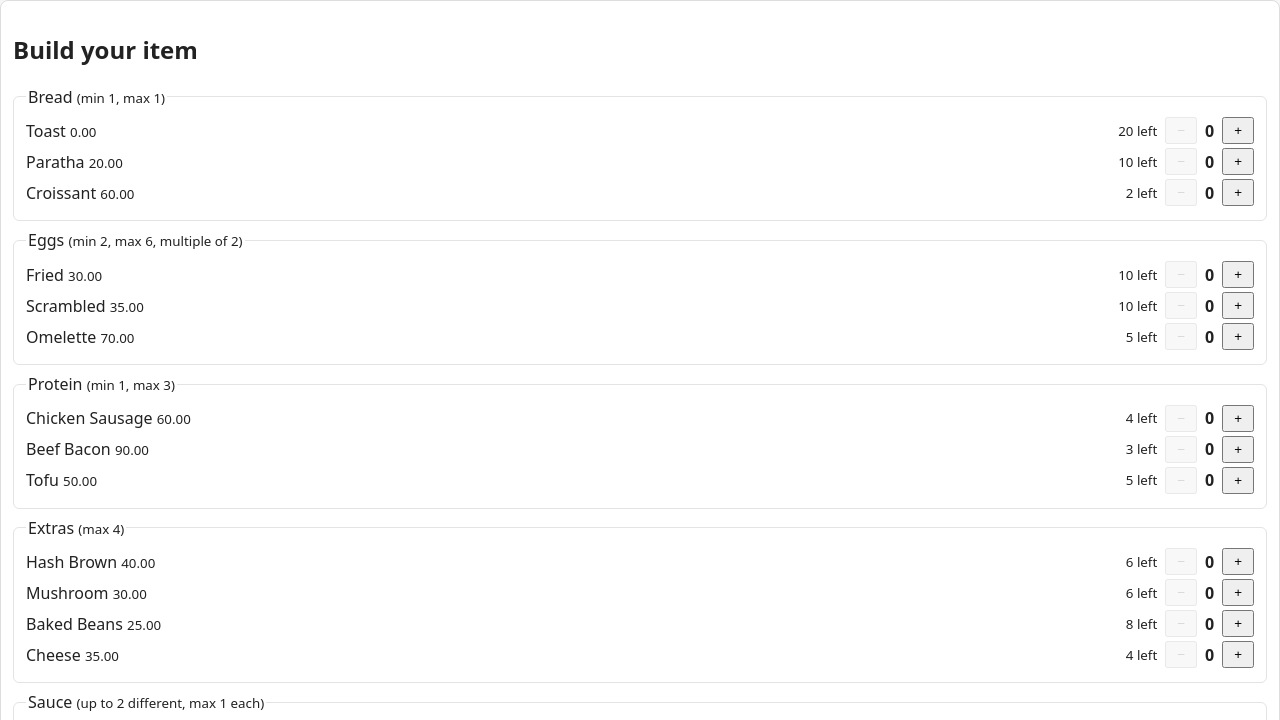
Test: TC-14: failed add keeps the configuration, and Retry reuses the same key
This screenshot has width=1280, height=720.
Later steps or results of the test are not shown.
Click the button "+" in the row of "20 left": click(1238, 131) x1=1222 y1=117 x2=1254 y2=144
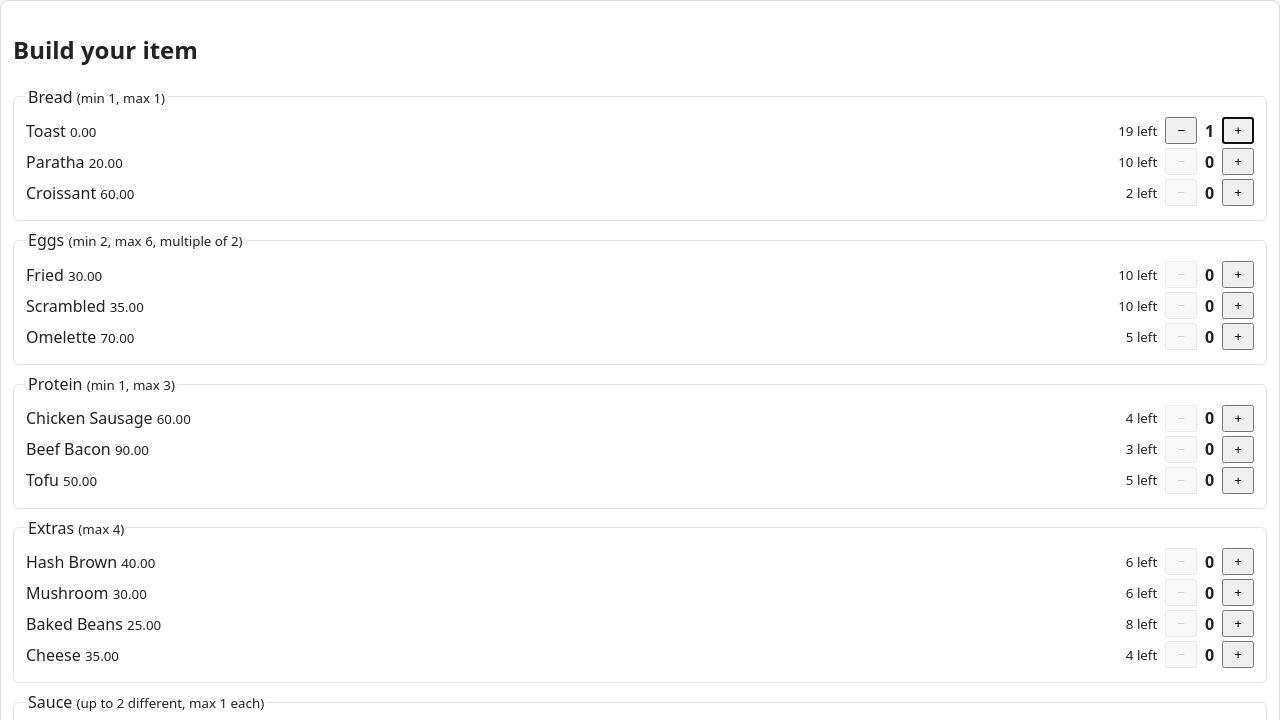
Click the button "+" in the row of "Fried": click(1238, 274) x1=1222 y1=261 x2=1254 y2=288
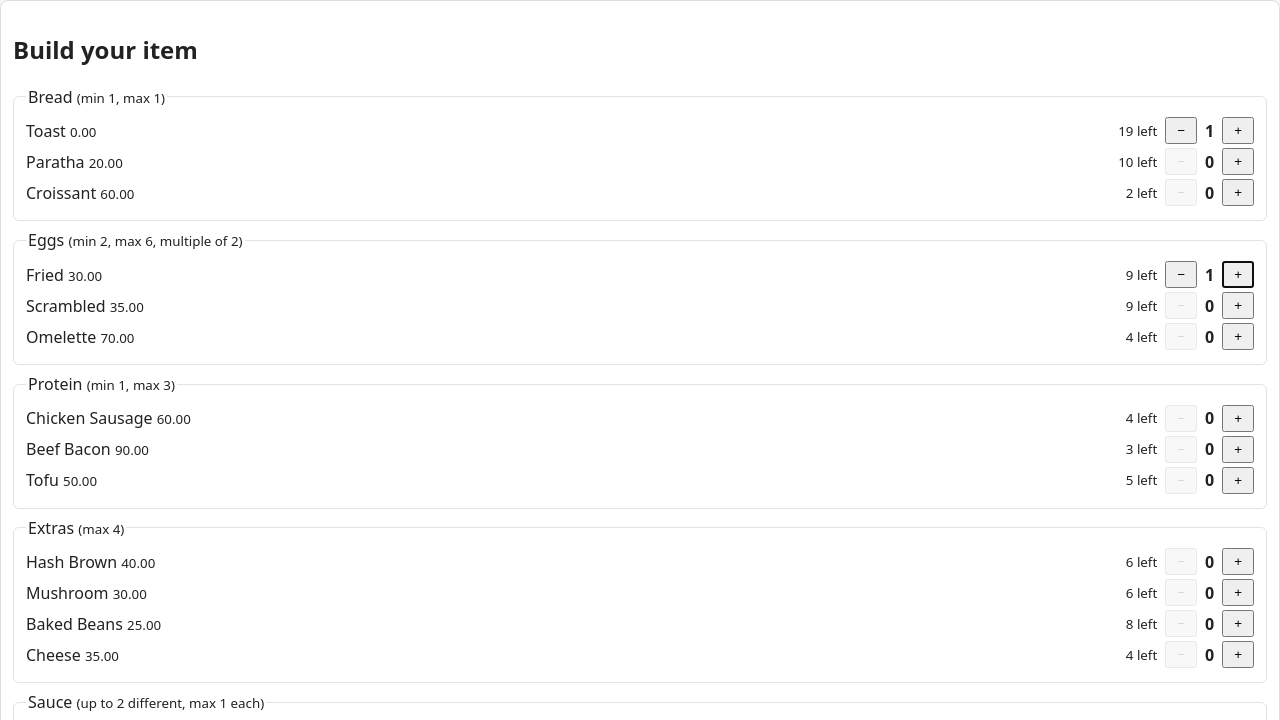
Click the button "+" in the row of "Fried": click(1238, 274) x1=1222 y1=261 x2=1254 y2=288
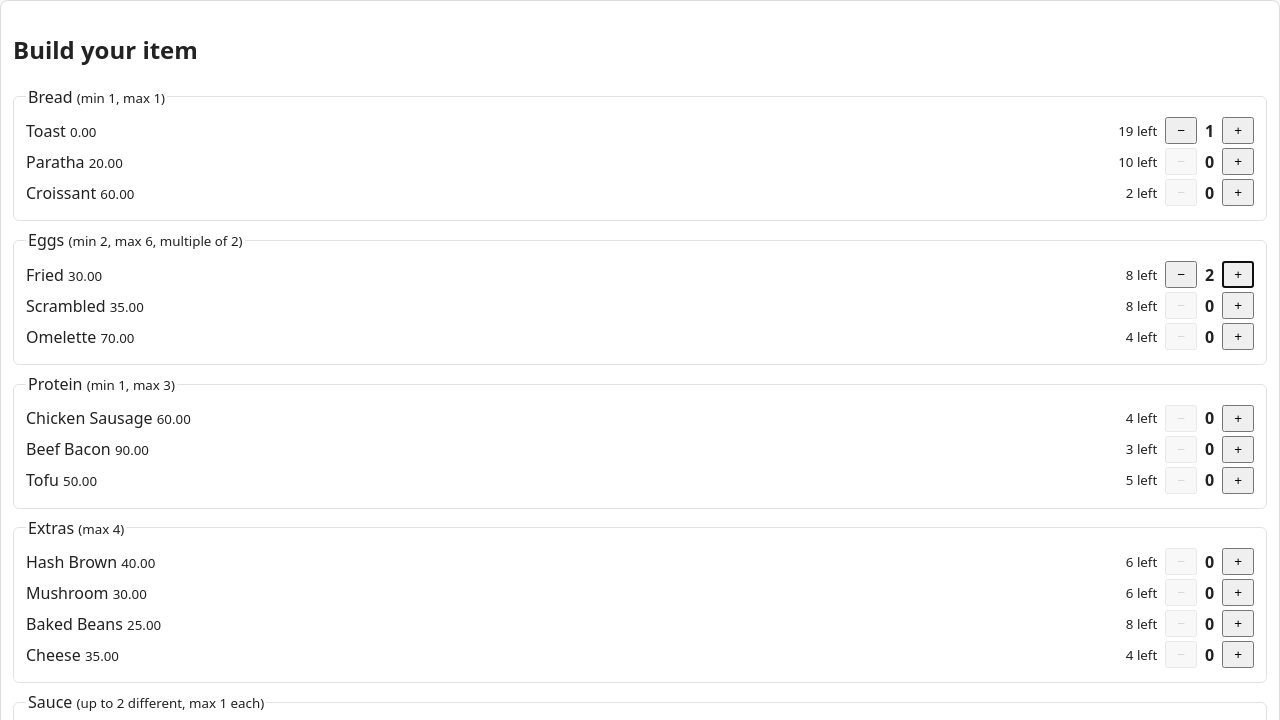
Click the button "+" in the row of "Chicken Sausage": click(1238, 418) x1=1222 y1=405 x2=1254 y2=432
(page scrolled)
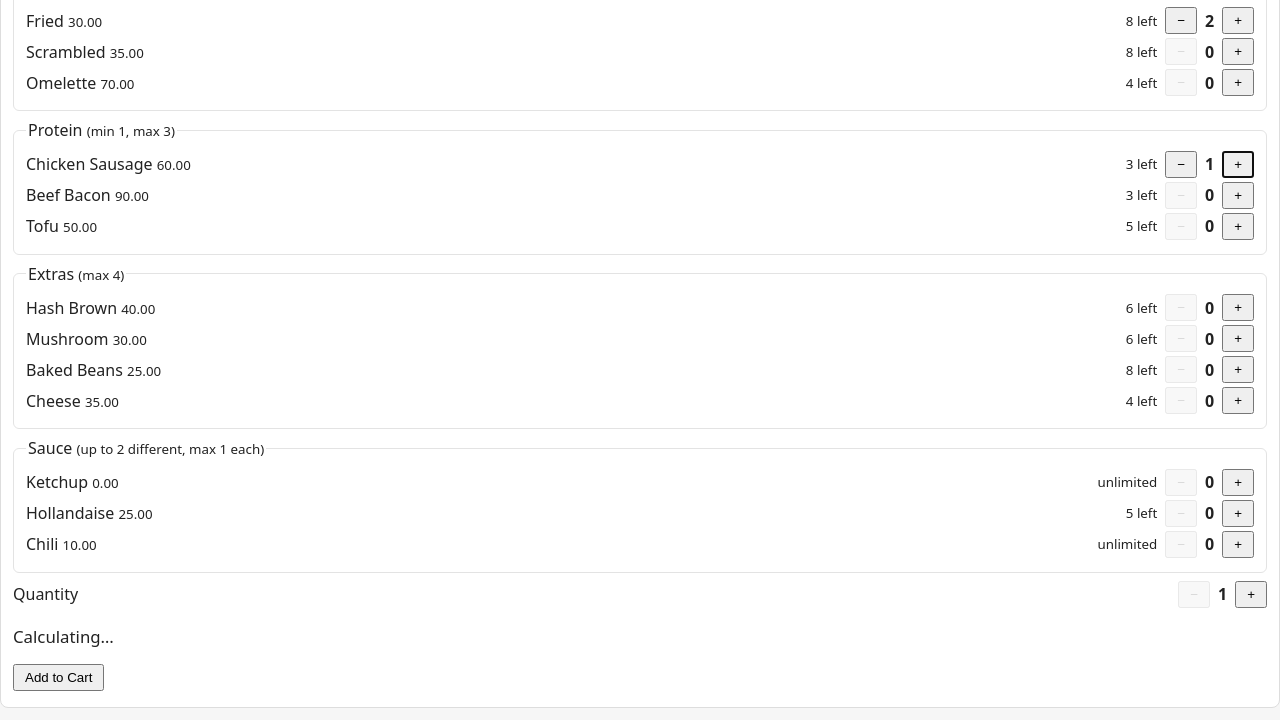
Click the button "Add to Cart": click(59, 678) x1=13 y1=664 x2=104 y2=691
(page scrolled)
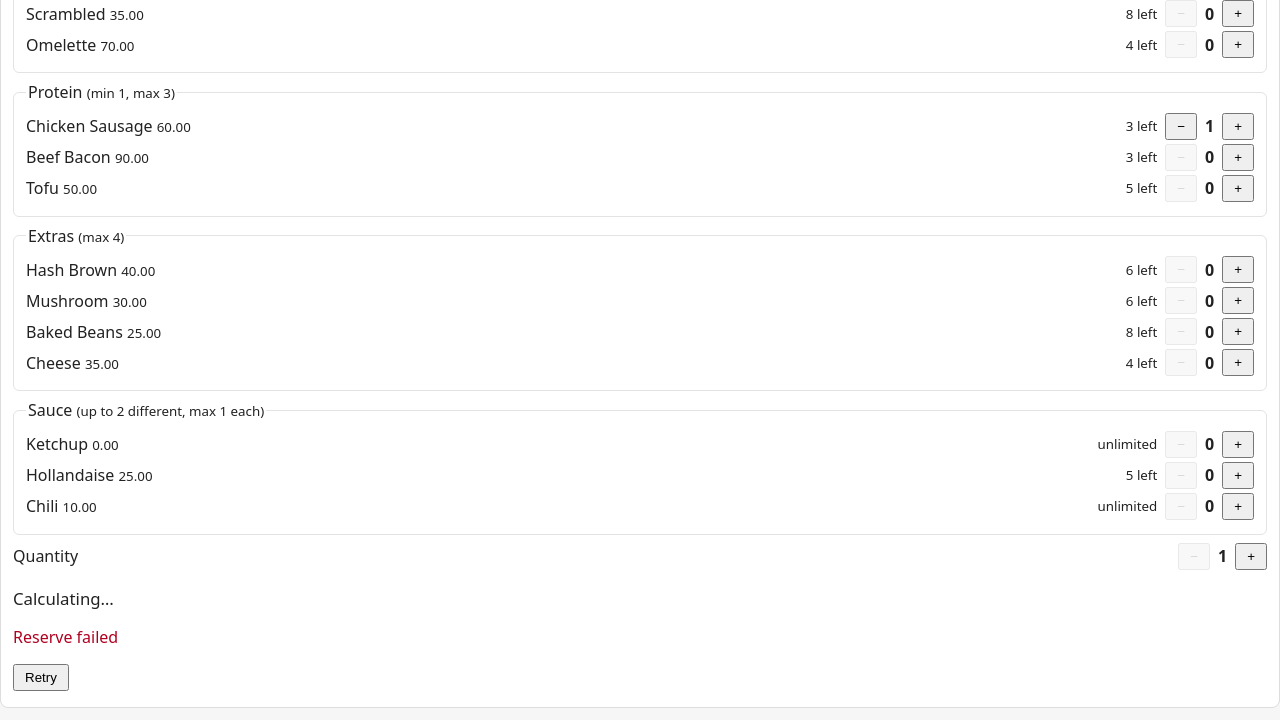
Expected: the text "Reserve failed" is shown, x1=13 y1=626 x2=118 y2=648
